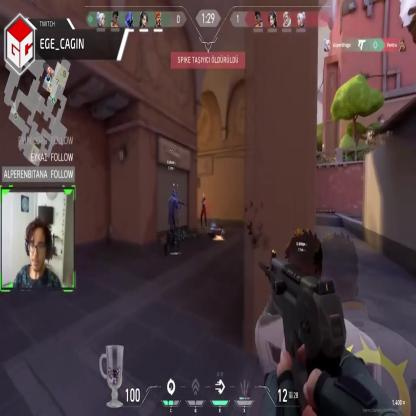enemy: (198, 192, 208, 230)
enemy_head: (202, 194, 205, 199)
